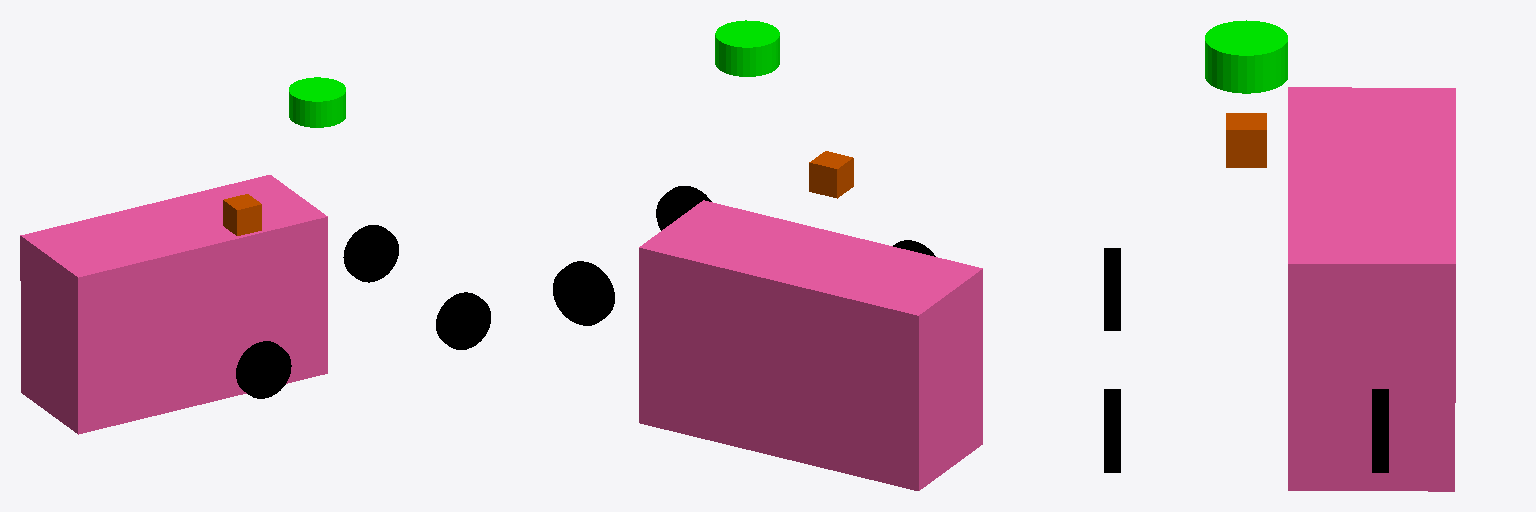
robot.urdf — ugv_robot:
<?xml version="1.0"?>
<robot name="ugv_robot">

    <!-- Than -->
    <link name="base_link">
        <visual>
            <geometry>
              <box size="0.5 0.3 0.2"/>
            </geometry>
            <material name="pink">
                <color rgba="1 0.4 0.7 1"/>
            </material>
            <origin xyz="-0.2 0.15 -0.1" rpy="1.57 0.0 0.0"/>
        </visual>
        <collision>
            <geometry>
                <box size="0.5 0.3 0.2"/>
            </geometry>
        </collision>
        <inertial>
             <mass value="5"/>
             <inertia ixx="0.05417" ixy="0" ixz="0" iyy="0.12083" iyz="0.0" izz="0.14167"/>
        </inertial>
        <gazebo>
    <plugin name="diff_drive_controller" filename="libgazebo_ros_diff_drive.so">
        <ros>
            <namespace>/</namespace>
            <remapping>cmd_vel:=cmd_vel</remapping>
            <remapping>odom:=odom</remapping>
        </ros>
        <updateRate>100.0</updateRate>
        <leftJoint>joint_wheel_tr_trc</leftJoint>
        <leftJoint>joint_wheel_tr_s</leftJoint>
        <rightJoint>joint_wheel_ph_trc</rightJoint>
        <rightJoint>joint_wheel_ph_s</rightJoint>
        <wheelSeparation>0.32</wheelSeparation> <!-- khoảng cách 2 bên bánh xe -->
        <wheelDiameter>0.10</wheelDiameter> <!-- 2 lần bán kính -->
        <torque>5</torque>
        <commandTopic>cmd_vel</commandTopic>
        <odometryTopic>odom</odometryTopic>
        <odometryFrame>odom</odometryFrame>
        <robotBaseFrame>base_link</robotBaseFrame>
        <publishTf>true</publishTf>
    </plugin>
</gazebo>

    </link>

    <!-- Banh xe -->
    <link name="wheel_tr_trc">
        <visual>
            <geometry>
                <cylinder radius="0.05" length="0.02"/>
            </geometry>
           
            <material name="black">
                <color rgba="0 0 0 1"/>
            </material>
        </visual>
        <collision>
            <geometry>
                <cylinder radius="0.05" length="0.02"/>
            </geometry>
        </collision>
        <inertial>
            <mass value="10"/>
            <inertia ixx="0.0013167" ixy="0.0" ixz="0.0" iyy="0.0013167" iyz="0.0" izz="0.0025"/>
        </inertial>

    </link>
    
    <link name="wheel_ph_trc">
        <visual>
            <geometry>
                <cylinder radius="0.05" length="0.02"/>
            </geometry>
            <material name="black">
                <color rgba="0 0 0 1"/>
            </material>
        </visual>
        <collision>
            <geometry>
                <cylinder radius="0.05" length="0.02"/>
            </geometry>
        </collision>
        <inertial>
            <mass value="10"/>
            <inertia ixx="0.0013167" ixy="0.0" ixz="0.0" iyy="0.0013167" iyz="0.0" izz="0.0025"/>
        </inertial>

    </link>

    <link name="wheel_tr_s">
        <visual>
            <geometry>
                <cylinder radius="0.05" length="0.02"/>
            </geometry>
            <material name="black">
                <color rgba="0 0 0 1"/>
            </material>
        </visual>
        <collision>
            <geometry>
                <cylinder radius="0.05" length="0.02"/>
            </geometry>
        </collision>
        <inertial>
            <mass value="10"/>
            <inertia ixx="0.0013167" ixy="0.0" ixz="0.0" iyy="0.0013167" iyz="0.0" izz="0.0025"/>
        </inertial>
    </link>

    <link name="wheel_ph_s">
        <visual>
            <geometry>
                <cylinder radius="0.05" length="0.02"/>
            </geometry>
            <material name="black">
                <color rgba="0 0 0 1"/>
            </material>
        </visual>
        <collision>
            <geometry>
                <cylinder radius="0.05" length="0.02"/>
            </geometry>
        </collision>
        <inertial>
            <mass value="10"/>
            <inertia ixx="0.0013167" ixy="0.0" ixz="0.0" iyy="0.0013167" iyz="0.0" izz="0.0025"/>
        </inertial>
    </link>

    <!-- Khop noi banh xe -->
    <joint name="joint_wheel_tr_trc" type="continuous">
        <parent link="base_link"/>
        <child link="wheel_tr_trc"/>
        <origin xyz="-0.2 0.16 -0.1" rpy="1.57 0.0 0.0"/>
        <axis xyz="0 0 1"/>
    </joint>

    <joint name="joint_wheel_ph_trc" type="continuous">
        <parent link="base_link"/>
        <child link="wheel_ph_trc"/>
        <origin xyz="0.2 0.16 -0.1" rpy="1.57 0.0 0.0"/>
        <axis xyz="0 0 1"/>
    </joint>

    <joint name="joint_wheel_tr_s" type="continuous">
        <parent link="base_link"/>
        <child link="wheel_tr_s"/>
        <origin xyz="-0.2 -0.16 -0.1" rpy="1.57 0.0 0.0"/>
        <axis xyz="0 0 1"/>
    </joint>

    <joint name="joint_wheel_ph_s" type="continuous">
        <parent link="base_link"/>
        <child link="wheel_ph_s"/>
        <origin xyz="0.2 -0.16 -0.1" rpy="1.57 0.0 0.0"/>
        <axis xyz="0 0 1"/>
    </joint>

<gazebo>
  <plugin name="diff_drive_controller" filename="libgazebo_ros_diff_drive.so">
    <ros>
      <namespace>/</namespace>
      <remapping>cmd_vel:=/cmd_vel</remapping>
    </ros>
    <robotNamespace>/</robotNamespace>
    <commandTopic>cmd_vel</commandTopic>
    <odometryTopic>odom</odometryTopic>
    <odometryFrame>odom</odometryFrame>
    <robotBaseFrame>base_link</robotBaseFrame>
    <wheelSeparation>0.32</wheelSeparation>
    <wheelDiameter>0.1</wheelDiameter>
    <leftJoint>joint_wheel_tr_s</leftJoint>
    <rightJoint>joint_wheel_ph_s</rightJoint>
    <leftJoint>joint_wheel_tr_trc</leftJoint> <!-- nếu robot có 4 bánh drive thì thêm cả -->
    <rightJoint>joint_wheel_ph_trc</rightJoint>
    <torque>5</torque>
    <commandTimeout>1.0</commandTimeout>
    <broadcastTF>true</broadcastTF>
  </plugin>
</gazebo>

<!-- <camera> -->

<!-- Base Camera -->
<link name="camera_link">
        <visual>
            <geometry>
                <box size="0.05 0.05 0.05"/>
            </geometry>
        </visual>
        <inertial>
            <origin xyz="0.0 0.0 0.0" rpy="0.0 0.0 0.0"/>
            <mass value="0.1"/>
            <inertia ixx="0.0001" ixy="0.000" ixz="0.00" iyy="0.0001" iyz="0.0" izz="0.0001"/>
        </inertial>
    </link>
    <!-- Camera Joint -->
    <joint name="camera_joint" type="fixed">
        <parent link="base_link"/>
        <child link="camera_link"/>
        <origin xyz="-0.15 0.0 0.12" rpy="0 0 3.14"/>
    </joint>
    <!-- Camera Work -->
    <gazebo reference="camera_link">
        <material>Gazebo/Red</material>
        <sensor name="camera" type="camera">
            <pose> 0 0 0 0 0 0 </pose>
            <visualize>true</visualize>
            <update_rate>10</update_rate>
            <camera>
                <horizontal_fov>1.089</horizontal_fov>
                <image>
                    <format>R8G8B8</format>
                    <width>640</width>
                    <height>480</height>
                </image>
                <clip>
                    <near>0.05</near>
                    <far>8.0</far>
                </clip>
            </camera>
            <plugin name="camera_controller" filename="libgazebo_ros_camera.so">
                <frame_name>camera_link_optical</frame_name>
            </plugin>
        </sensor>
    </gazebo>

    <!-- Sensor -->

<!-- Base Sensor -->
 <link name="base_scan">
    <visual>
      <origin xyz="0 0 0.0" rpy="0 0 0"/>
      <geometry>
        <cylinder length="0.05" radius="0.05"/>
      </geometry>
     <material name="green">
        <color rgba="0.0 1 0.0 1.0"/>
     </material>
    </visual>
    <collision>
      <origin xyz="0 0 0.15" rpy="0 0 0"/>
      <geometry>
        <cylinder length="0.05" radius="0.05"/>
      </geometry>
    </collision>
    <inertial>
      <mass value="0.114" />
      <origin xyz="0 0 0" />
      <inertia ixx="0.001" ixy="0.0" ixz="0.0"
               iyy="0.001" iyz="0.0"
               izz="0.001" />
    </inertial>
  </link>

  <!-- Sensor Joint -->
<joint name="scan_joint" type="fixed">
    <parent link="base_link"/>
    <child link="base_scan"/>
    <origin xyz="0 0 0.3" rpy="0 0 0"/>
  </joint>

  <!-- Sensor Work -->
<gazebo reference="base_scan">
    <material>Gazebo/FlatBlack</material>
    <sensor type="ray" name="lds_lfcd_sensor">
      <pose>0 0 0 0 0 0</pose>
      <visualize>true</visualize>
      <update_rate>5</update_rate>
      <ray>
        <scan>
          <horizontal>
            <samples>360</samples>
            <resolution>1</resolution>
            <min_angle>-3.14159</min_angle>
            <max_angle>3.14159</max_angle>
          </horizontal>
        </scan>
        <range>
          <min>0.120</min>
          <max>3.5</max>
          <resolution>0.015</resolution>
        </range>
        <noise>
          <type>gaussian</type>
          <mean>0.0</mean>
          <stddev>0.01</stddev>
        </noise>
      </ray>
      <plugin name="gazebo_ros_lds_lfcd_controller" filename="libgazebo_ros_laser.so">
        <topicName>scan</topicName>
        <frameName>base_scan</frameName>
      </plugin>
    </sensor>
  </gazebo>

</robot>

--- Facts derived from the render (not from the file) ---
3 views of the same robot in one strip: view 1: azimuth 30°, elevation 25°; view 2: azimuth 150°, elevation 25°; view 3: azimuth 270°, elevation 25° (orthographic).
Model ugv_robot with 7 links and 6 joints (4 continuous, 2 fixed), rooted at base_link, posed every joint at zero.
Visible links, largest first — view 1: base_link, base_scan, wheel_tr_s, wheel_ph_s, wheel_ph_trc, camera_link; view 2: base_link, base_scan, wheel_ph_trc, camera_link, wheel_ph_s; view 3: base_link, base_scan, camera_link, wheel_ph_trc, wheel_ph_s, wheel_tr_s.
Link boxes in pixels (x1,y1,x2,y2): base_link: (20, 175, 327, 434); base_scan: (289, 77, 345, 127); wheel_tr_s: (236, 341, 291, 398); wheel_ph_s: (436, 292, 490, 349); wheel_ph_trc: (343, 225, 398, 282); camera_link: (223, 194, 261, 235); base_link: (639, 200, 982, 490); base_scan: (715, 20, 779, 76); wheel_ph_trc: (553, 261, 614, 325); camera_link: (809, 151, 853, 198); wheel_ph_s: (656, 186, 711, 230); base_link: (1288, 87, 1455, 491); base_scan: (1205, 20, 1287, 93); camera_link: (1226, 113, 1266, 167); wheel_ph_trc: (1372, 389, 1388, 472); wheel_ph_s: (1104, 389, 1120, 472); wheel_tr_s: (1104, 248, 1120, 330).
Size in the robot's own frame: 0.7 by 0.4202 by 0.5751 metres.
Geometry: primitives only (box / cylinder / sphere), no mesh files.
